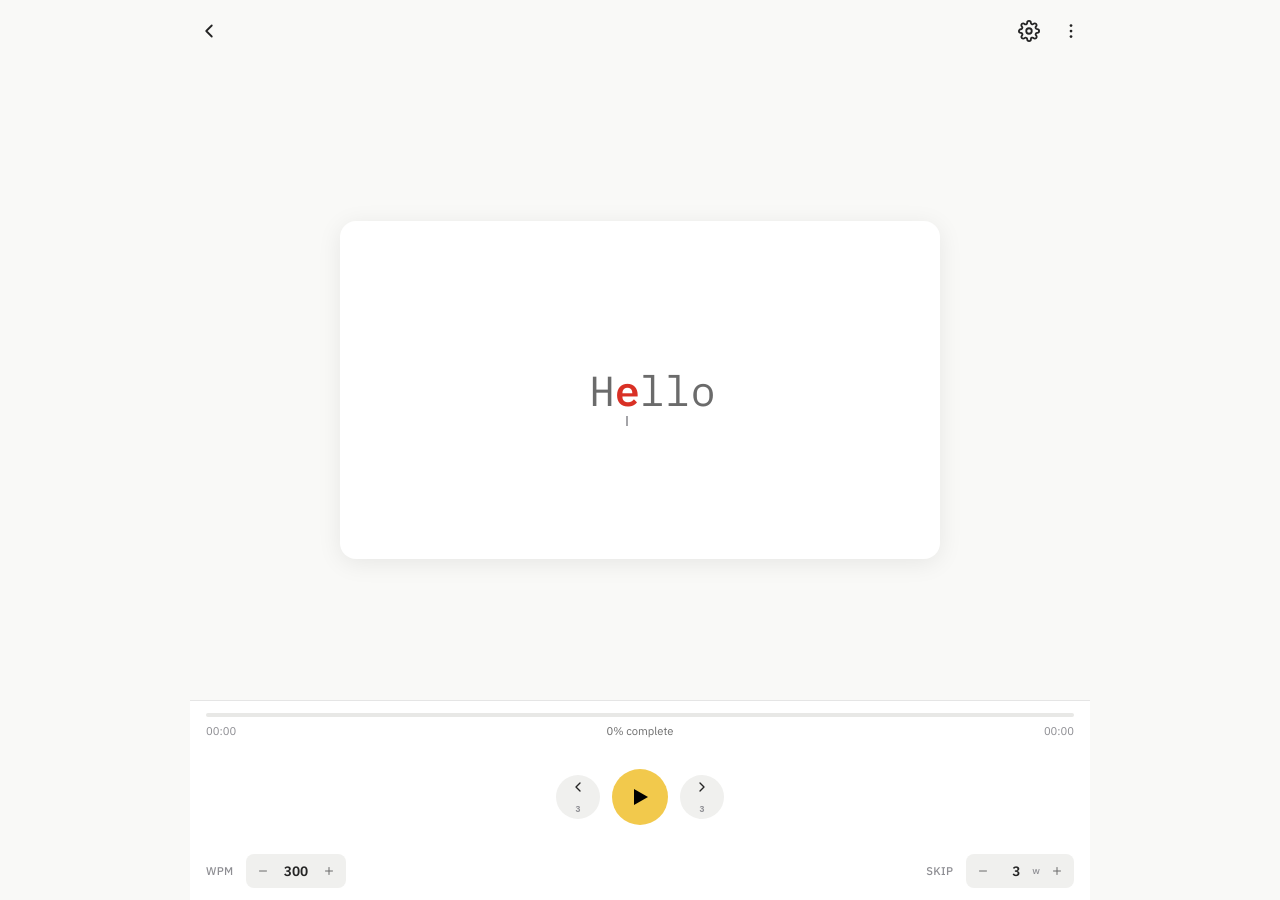
Test: RSVPPlayer › playback controls › shows Pause button when playing
The width and height of the screenshot is (1280, 900).
Click the button named "Play" at (640, 797), box [612,769,668,825]
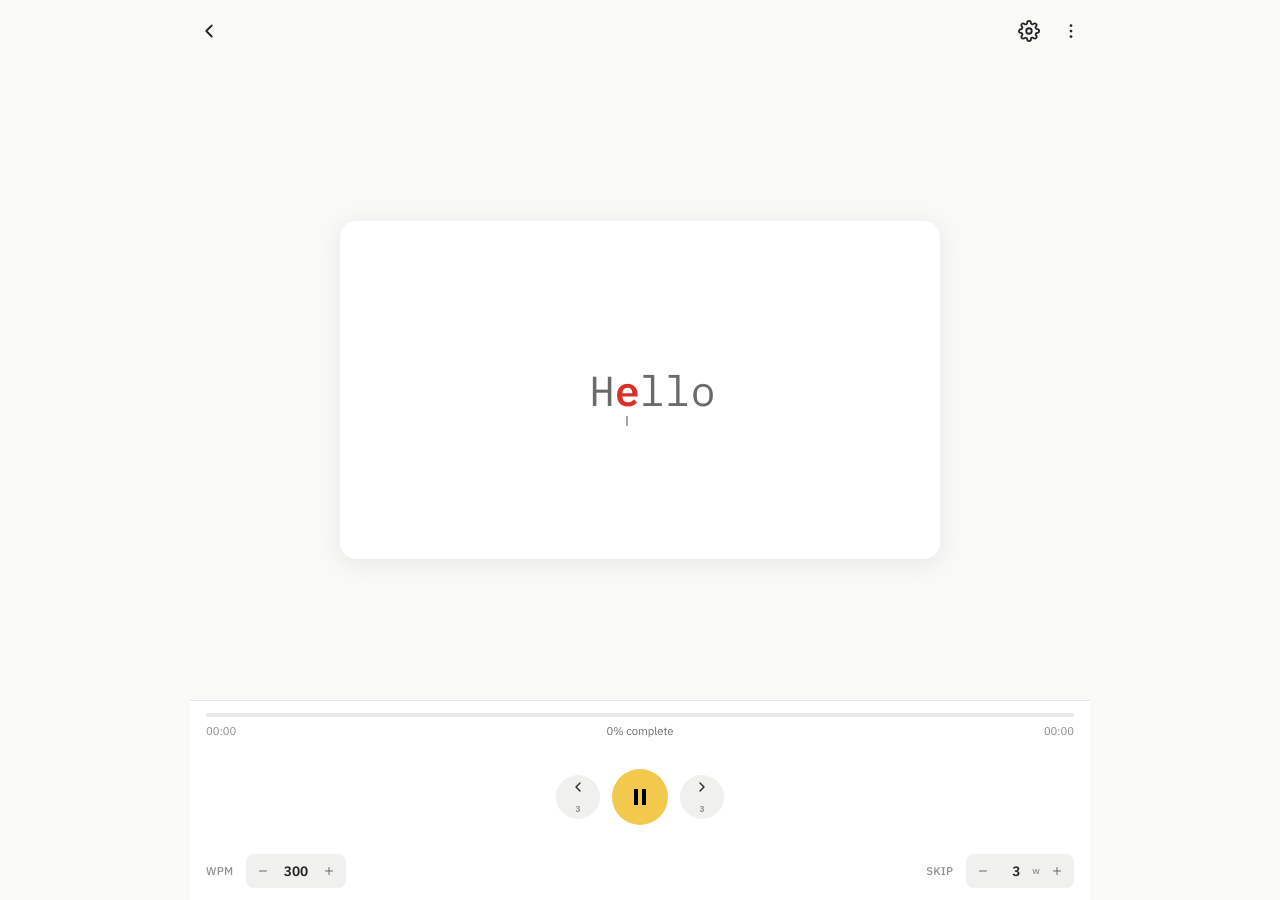
Expected: the button named "Pause" is shown, [612,769,668,825]
